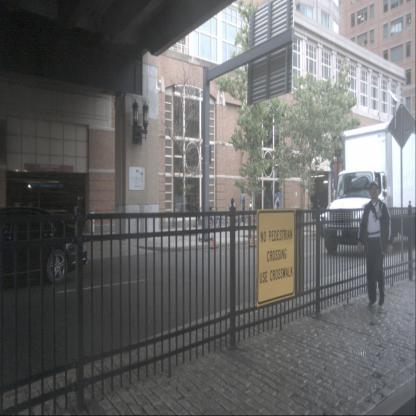cone: (210, 212, 218, 250), (249, 211, 257, 248)
